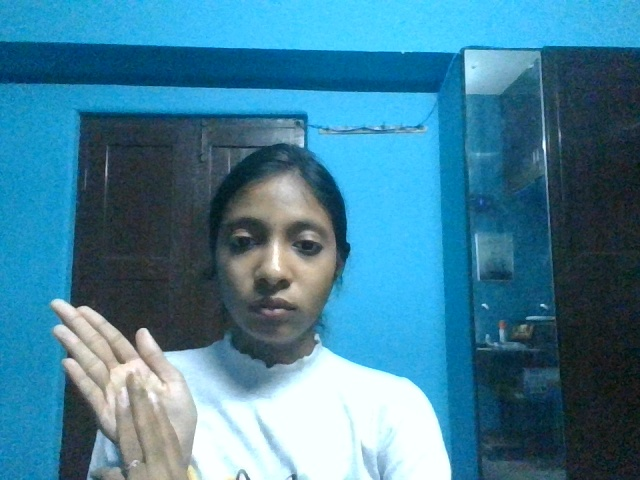M: (48, 296, 199, 480)
